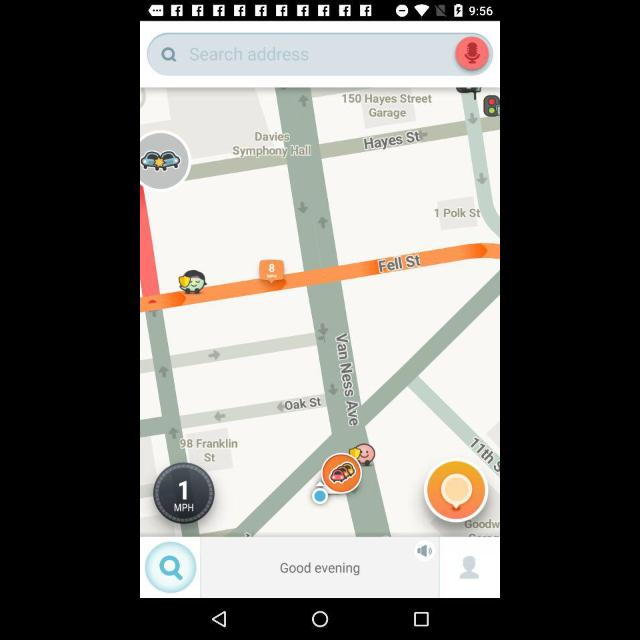icon: (148, 542, 196, 592), (456, 36, 489, 74), (456, 552, 482, 580), (310, 611, 330, 631), (416, 540, 434, 562), (412, 610, 430, 630), (209, 610, 227, 628), (161, 46, 177, 64)
input: (148, 33, 494, 75)
map: (142, 89, 498, 538)
panel: (142, 538, 498, 598), (142, 597, 498, 639)
text: (190, 46, 310, 64), (278, 558, 364, 578)
toolbar: (142, 19, 498, 86)
uppertaskbar: (142, 1, 498, 18)
